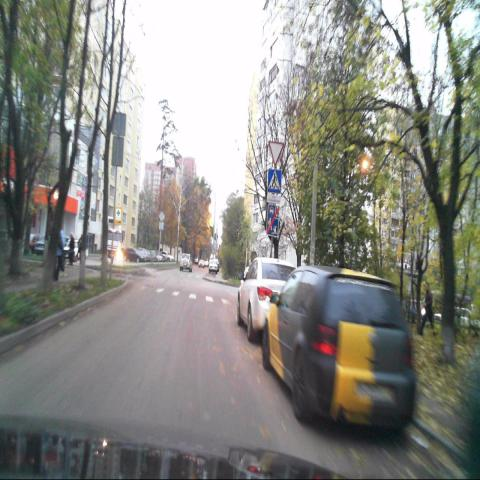5_22: (266, 205, 278, 237)
